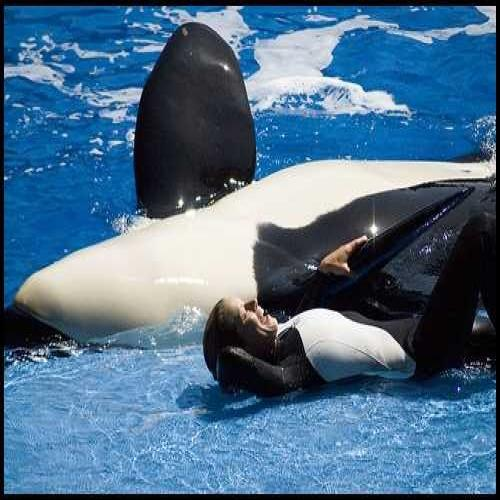killer_whale-endangered: (21, 25, 500, 348)
